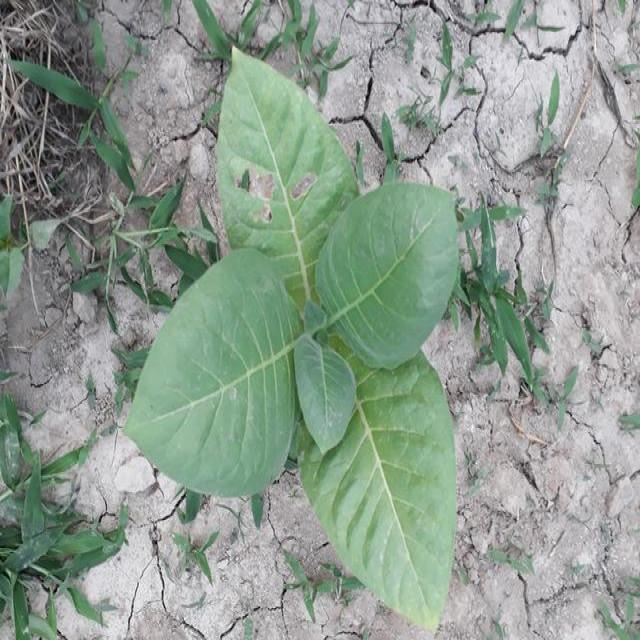crop: (123, 39, 474, 640)
